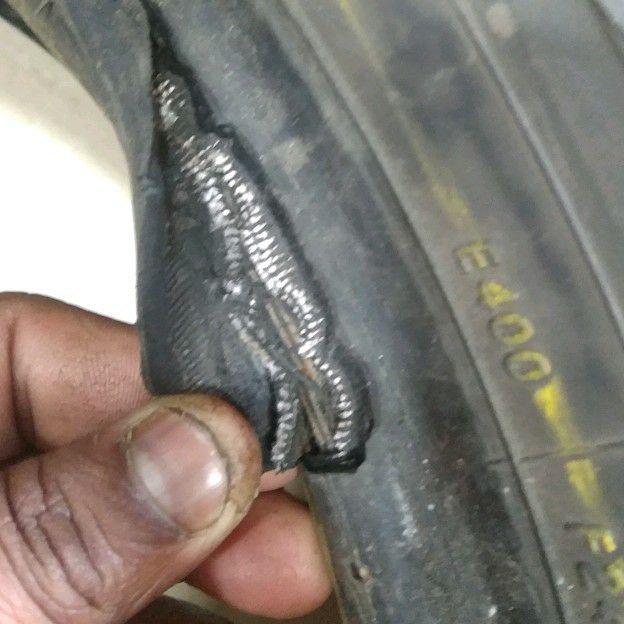bead_damage: (136, 2, 381, 476)
